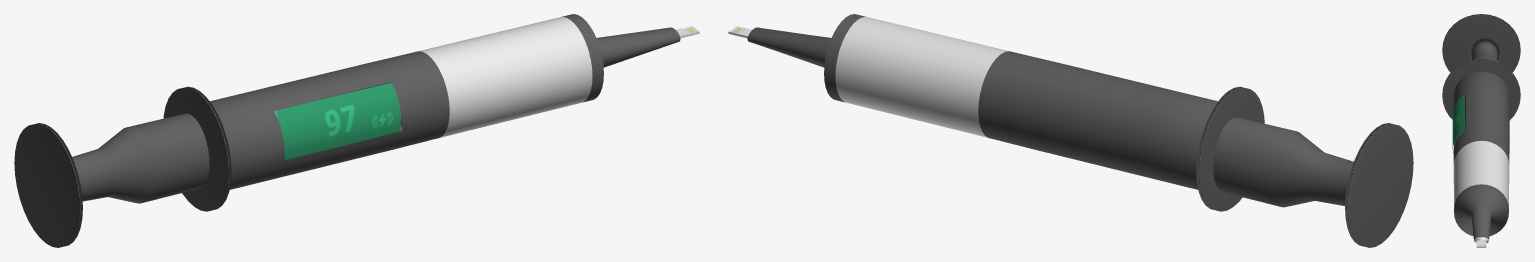
File: syringe 4.glb
3 renders of one model, left to right at view 1: azimuth 30°, elevation 25°; view 2: azimuth 150°, elevation 25°; view 3: azimuth 270°, elevation 25°, orthographic. The views are drawn at different scales.
Visible parts, largest first — view 1: body, Cylinder.001, Cylinder, body.001, Cylinder.004; view 2: body, Cylinder.001, Cylinder, Cylinder.004; view 3: body, Cylinder, Cylinder.004, Cylinder.001, body.001, Cylinder.005.
Part boxes in pixels (x1=…): body: x1=210, y1=14, x2=680, y2=189; Cylinder.001: x1=72, y1=82, x2=390, y2=203; Cylinder: x1=14, y1=123, x2=82, y2=247; body.001: x1=274, y1=82, x2=401, y2=160; Cylinder.004: x1=163, y1=86, x2=231, y2=211; body: x1=747, y1=14, x2=1217, y2=189; Cylinder.001: x1=1213, y1=117, x2=1353, y2=207; Cylinder: x1=1345, y1=123, x2=1413, y2=247; Cylinder.004: x1=1196, y1=86, x2=1264, y2=211; body: x1=1453, y1=71, x2=1509, y2=243; Cylinder: x1=1442, y1=14, x2=1520, y2=72; Cylinder.004: x1=1442, y1=59, x2=1520, y2=120; Cylinder.001: x1=1463, y1=38, x2=1500, y2=131; body.001: x1=1452, y1=95, x2=1464, y2=149; Cylinder.005: x1=1476, y1=240, x2=1486, y2=247.
Size of the model in its own units: 8.91 by 1.5 by 1.5.
Materials: 9 (2 with a texture image).
